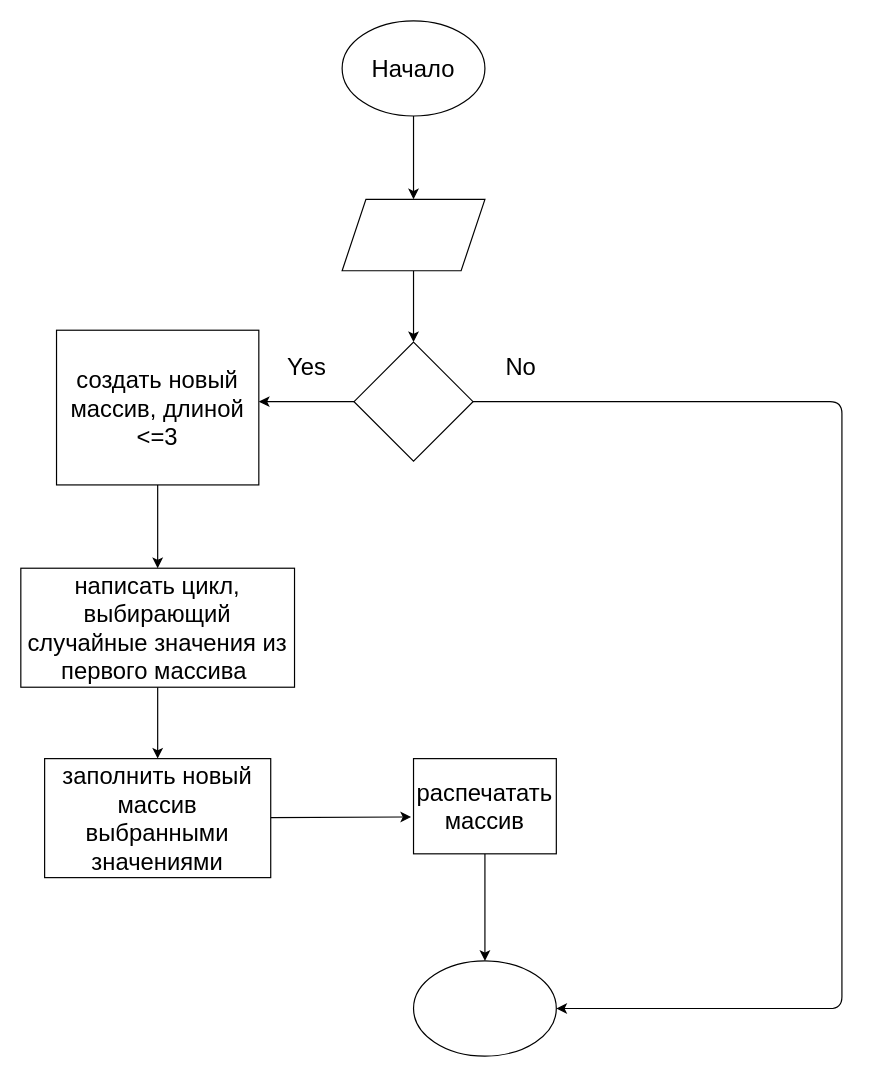
This 872x1077 diagram has some shape labels left out. The centre of each missing label's shape, as x and y in pixels:
array: (x=413, y=234)
Конец: (x=484, y=1008)
массив строк?: (x=413, y=401)
